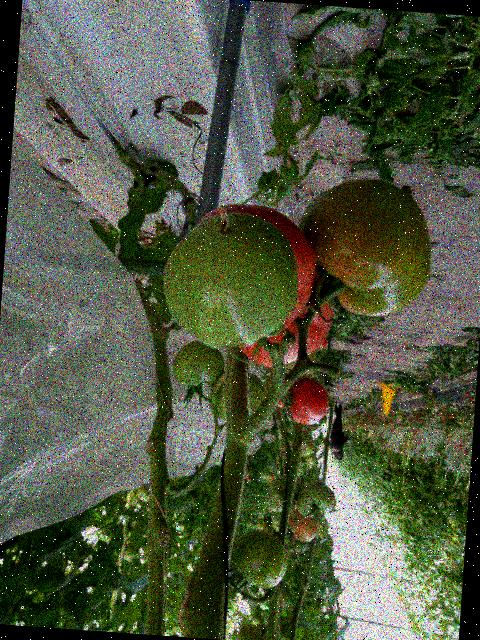b_fully_ripened: (191, 201, 320, 340), (236, 272, 336, 371), (286, 377, 329, 427)
b_green: (157, 207, 303, 354), (230, 526, 289, 589), (170, 338, 226, 388), (294, 479, 337, 519), (269, 349, 316, 382), (235, 622, 267, 640), (265, 485, 283, 512)
b_half_ripened: (292, 173, 436, 320), (286, 508, 319, 543)
